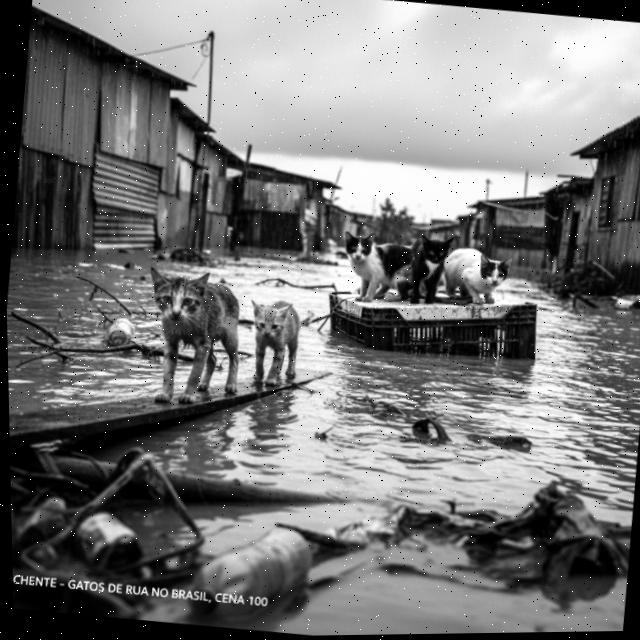cat: (134, 260, 257, 412), (330, 226, 432, 308), (238, 291, 314, 392), (440, 241, 513, 312), (401, 230, 459, 308)
